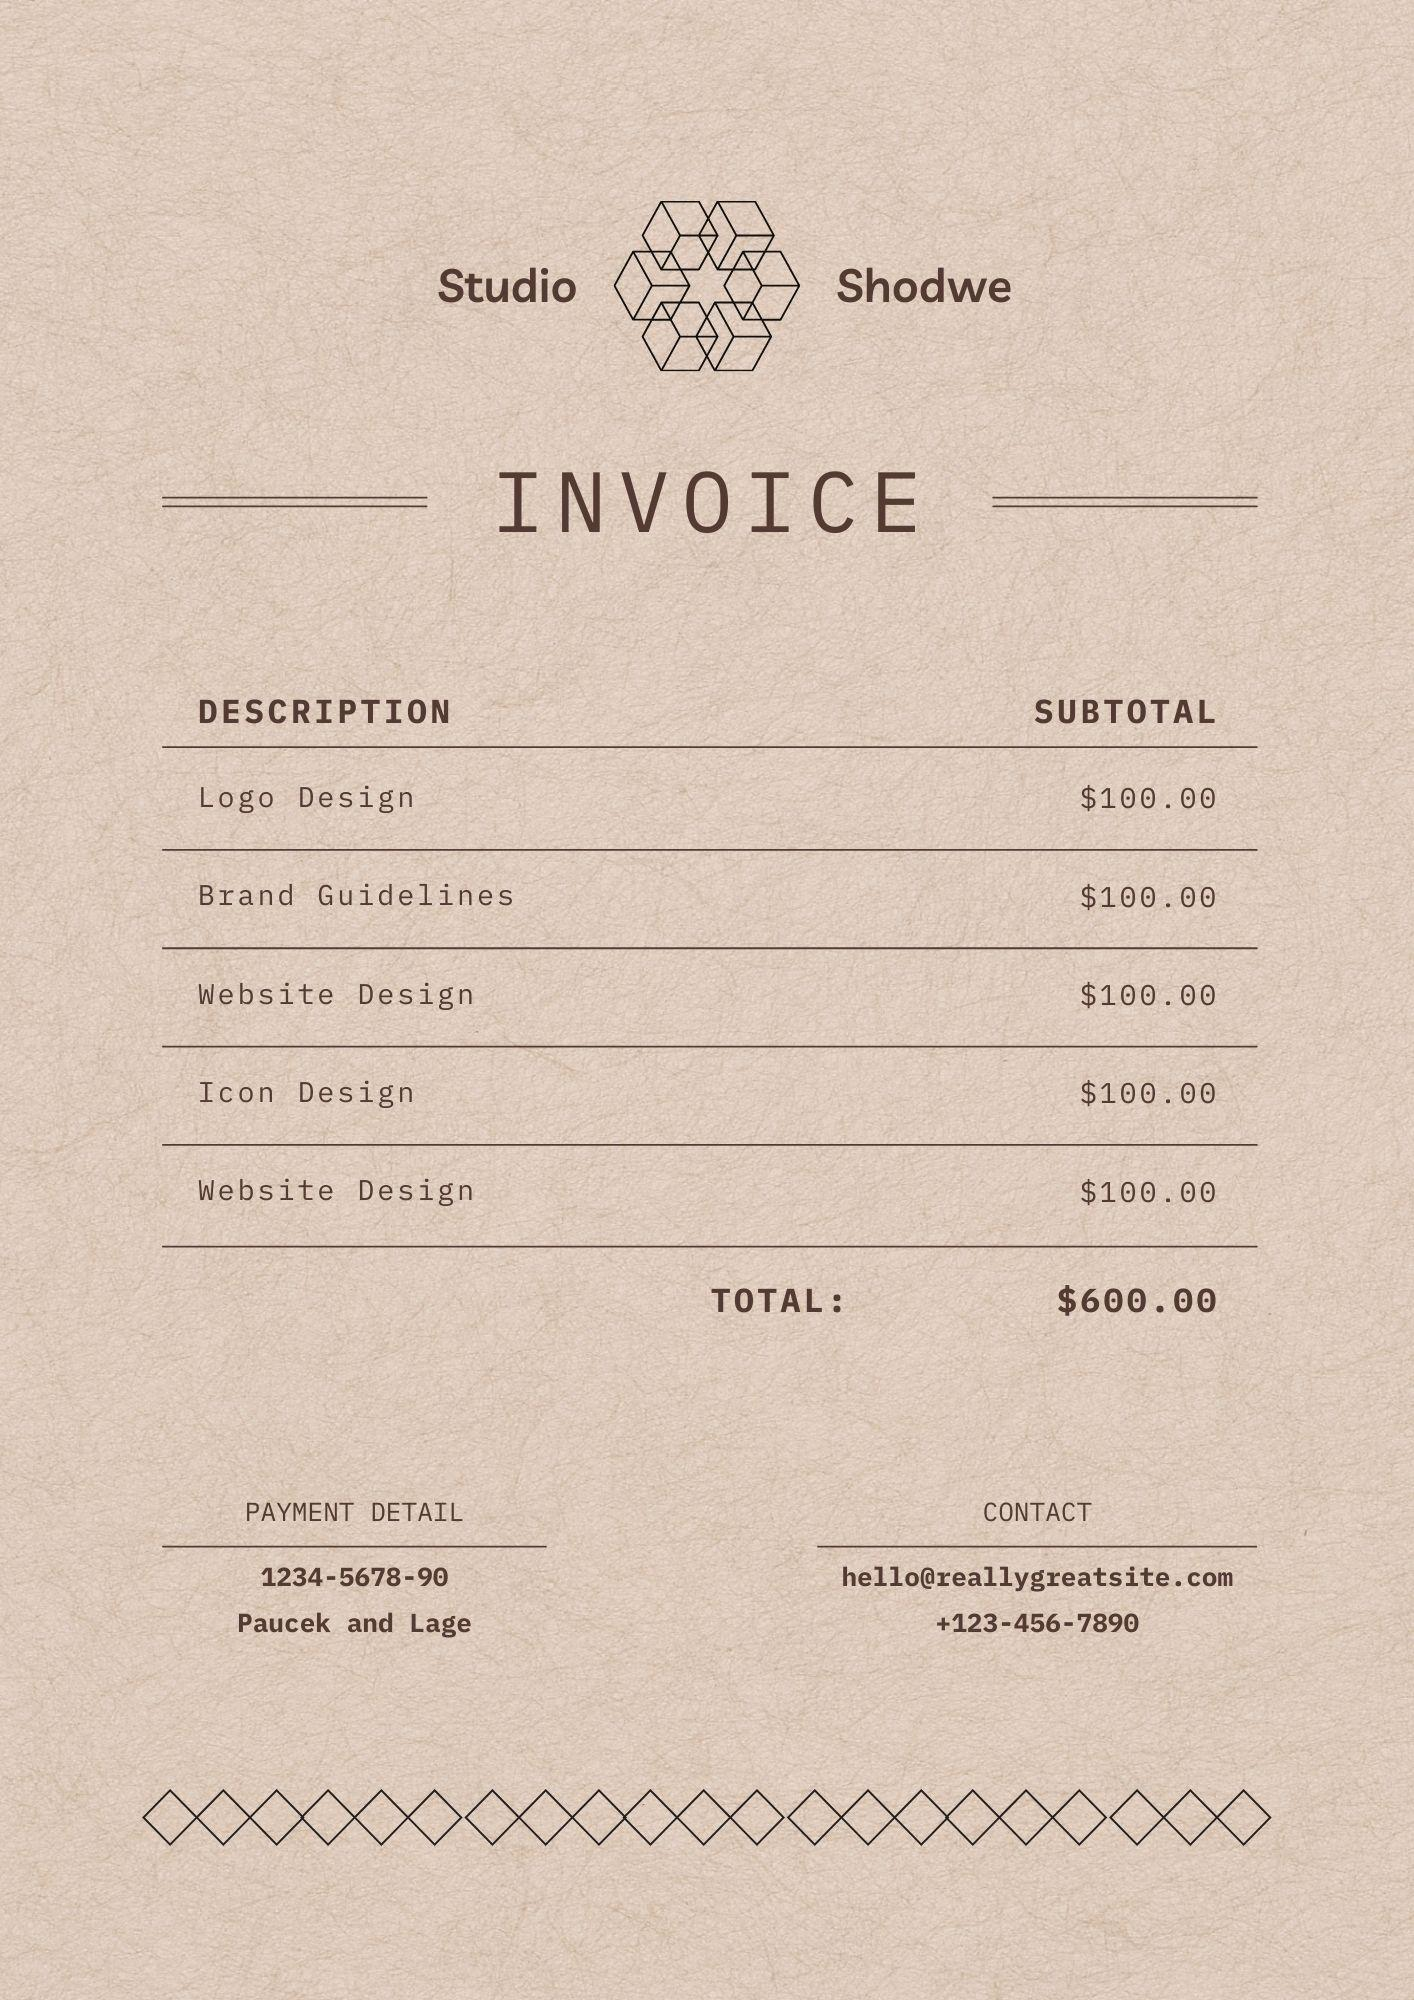ROI: (171, 675, 1262, 1259)
